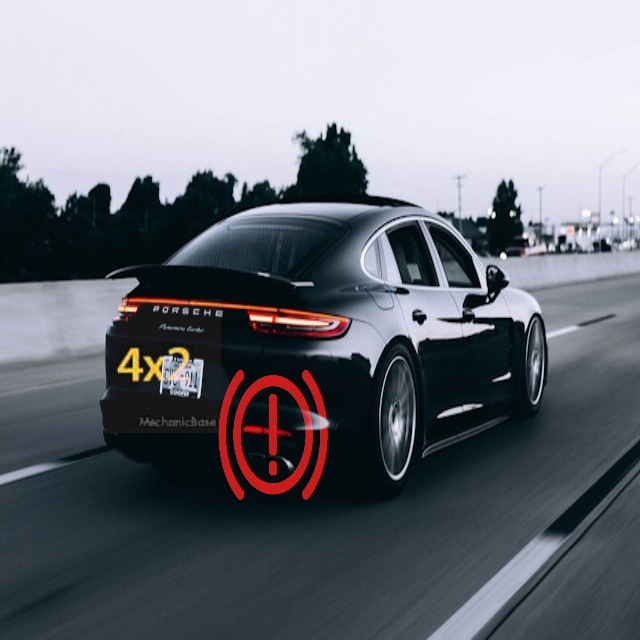symbol: (164, 321, 381, 538), (87, 299, 221, 433)
